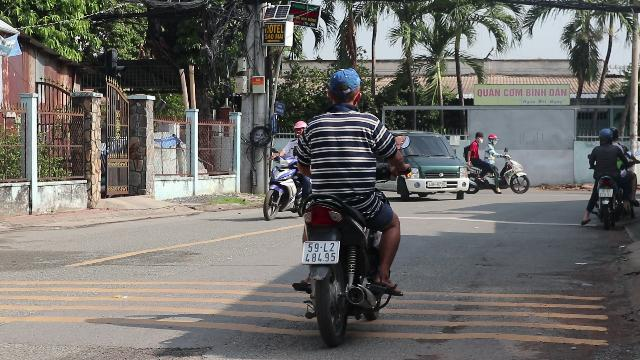helmet: (597, 128, 613, 144), (292, 120, 306, 136)
licenseplate: (303, 240, 339, 264), (599, 189, 613, 197)
motorcyclist: (286, 65, 408, 343), (581, 126, 637, 228), (262, 118, 312, 220)
nohelmet: (325, 67, 363, 109)
